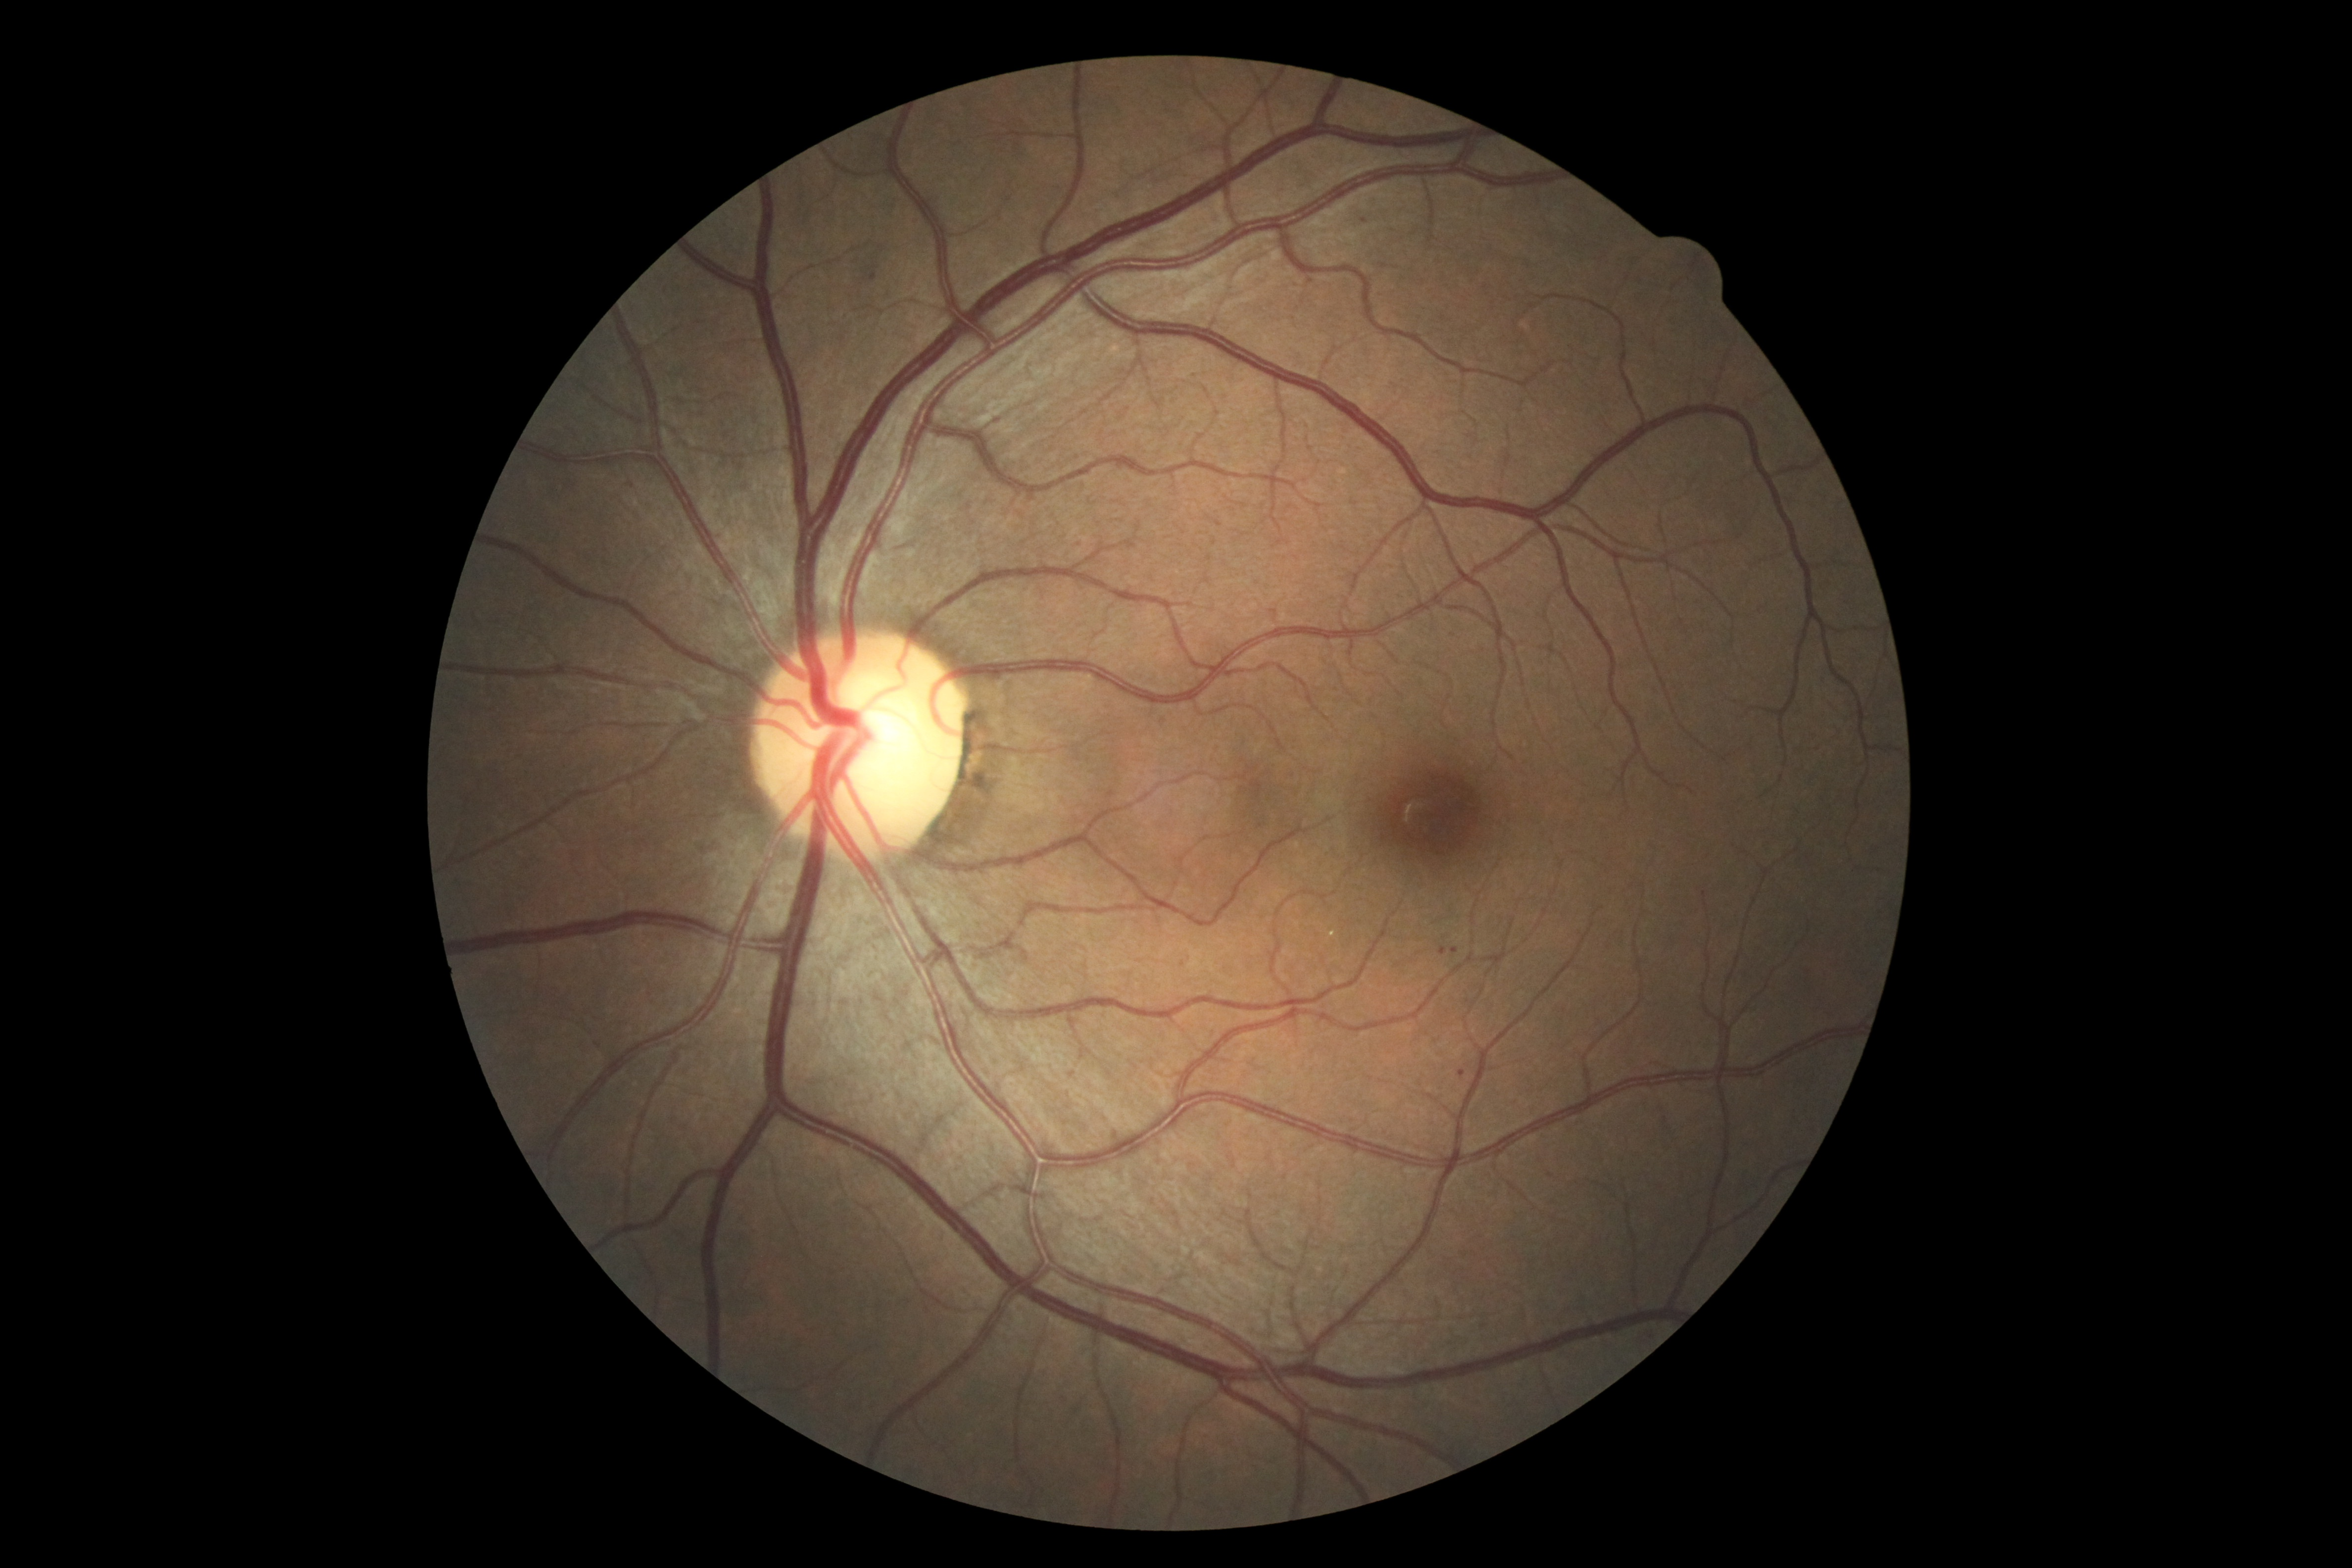Fovea: (1342, 737, 1514, 903)
OD: (726, 612, 996, 877)
